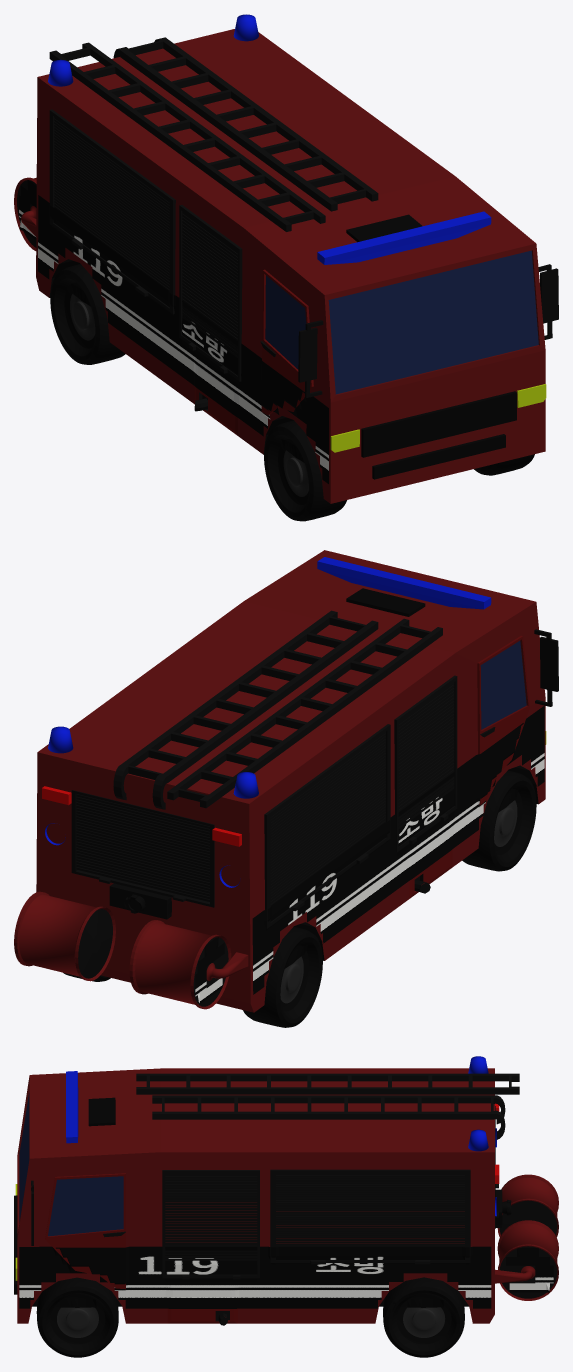
The model's file is FireEngine.obj.
The picture shows the model from 3 angles, top to bottom: view 1: azimuth 30°, elevation 25°; view 2: azimuth 150°, elevation 25°; view 3: azimuth 270°, elevation 25°; orthographic projection. The views are drawn at different scales.
Parts seen in each view (by area): view 1: Object_6; view 2: Object_6; view 3: Object_6.
Part boxes in pixels (x1,y1,x2,y2): Object_6: (14,14,558,521); Object_6: (14,550,558,1027); Object_6: (14,1056,558,1357).
Bounding box in the file's own units: 3.29 × 3.31 × 7.4.
